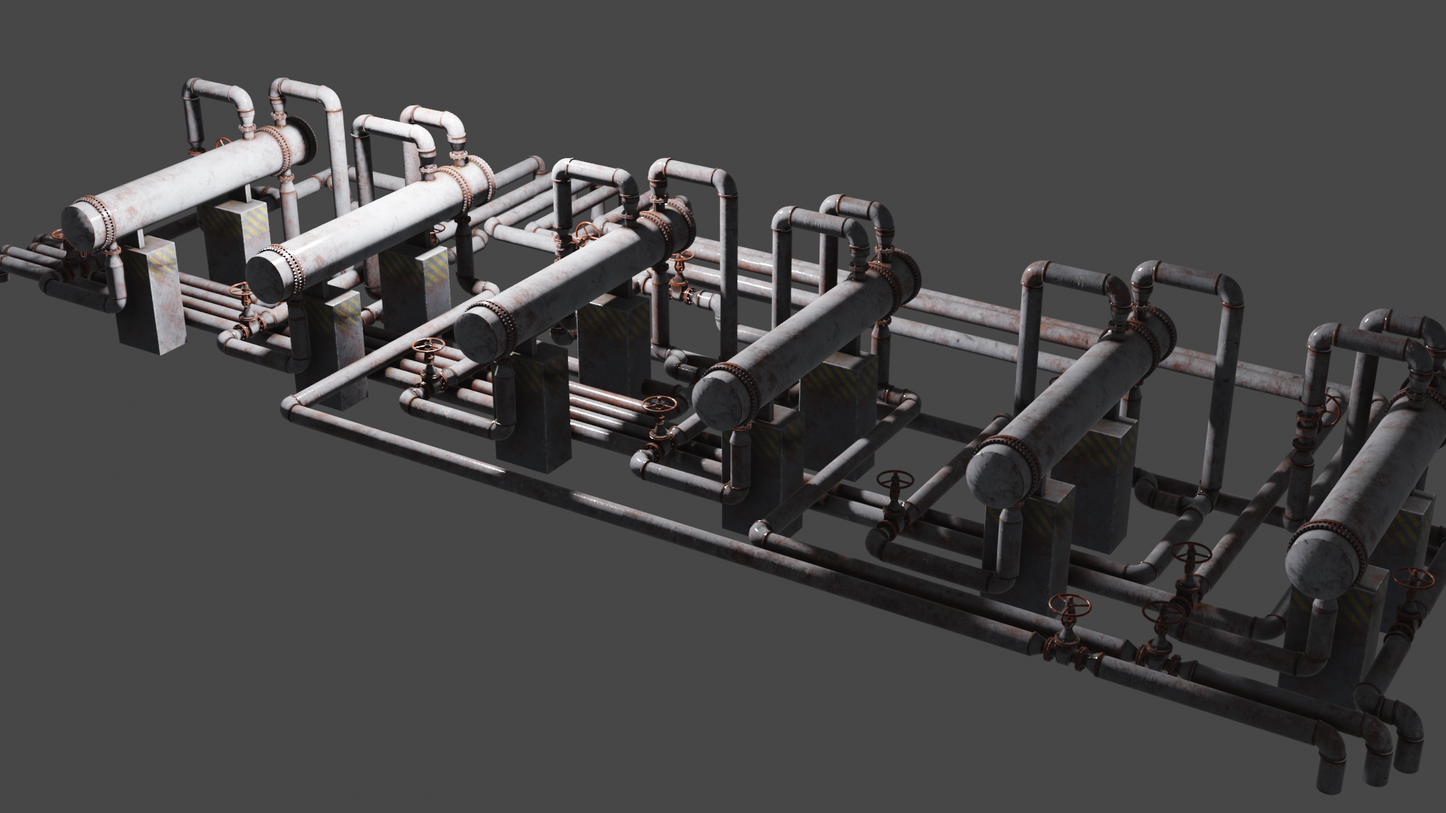HE_1: (1289, 366, 1446, 607)
HE_2: (967, 297, 1185, 511)
HE_3: (687, 240, 924, 440)
HE_4: (447, 185, 697, 366)
HE_5: (245, 147, 496, 308)
HE_6: (55, 110, 317, 255)
